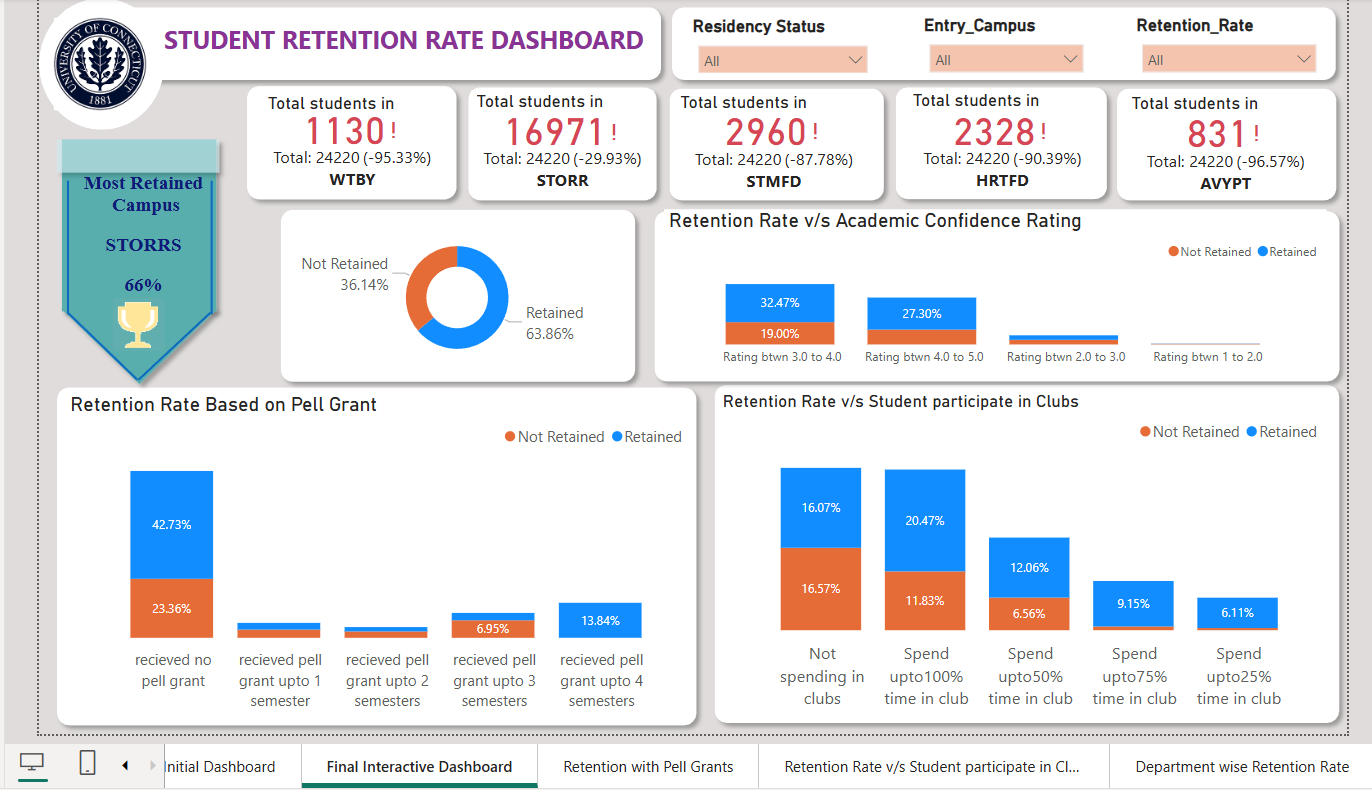

Layout of this report page (visuals, bound fields, positions):
{"tool":"powerbi","page":{"name":"Final Interactive Dashboard","canvas":[1280,720],"ordinal":1},"visuals":[{"type":"shape","box":[0,0,122.7,129],"z":0,"group":"g4"},{"type":"shape","box":[12.7,0,605.3,89.2],"z":0,"group":"g16"},{"type":"shape","box":[193.9,76.5,223,129],"z":0,"group":"g5"},{"type":"group","id":"g1","title":"Group 1","box":[410.6,78.1,202.3,125.8],"z":0},{"type":"shape","box":[410.6,78.1,202.3,128.7],"z":0,"group":"g1"},{"type":"shape","box":[829.4,78.1,224.6,127.4],"z":0,"group":"g6"},{"type":"shape","box":[608.1,79.6,227.8,127.4],"z":0,"group":"g3"},{"type":"group","id":"g2","title":"Group 1","box":[11.8,129,172,257.2],"z":0,"group":"g14"},{"type":"shape","box":[13.4,129,168.8,186],"z":0,"group":"g2"},{"type":"shape","box":[227.8,197.5,364.8,186.4],"z":0,"group":"g10"},{"type":"shape","box":[592.6,199.1,688.1,184.8],"z":0,"group":"g15"},{"type":"shape","box":[8,371.2,643.5,348.8],"z":0,"group":"g8"},{"type":"textbox","box":[117.9,19.1,487.4,70.1],"z":1000,"group":"g16"},{"type":"group","id":"g3","title":"Group 2","box":[608.1,79.6,227.8,127.4],"z":1000},{"type":"shape","box":[8,129,176.8,50.1],"z":1000,"group":"g14"},{"type":"shape","box":[11.8,294,172,92.2],"z":1000,"group":"g2"},{"type":"group","id":"g4","title":"Group 6","box":[0,0,122.7,129],"z":2000,"group":"g16"},{"type":"group","id":"g5","title":"Group 3","box":[193.9,76.5,223,129],"z":2000},{"type":"columnChart","title":"Retention Rate Based on Pell Grant","fields":{"Category":["Sheet1.pell_grant_dis"],"Y":["CountNonNull(Sheet1.retention_2_0)"],"Series":["Sheet1.retention_2_0"]},"box":[25.5,385.7,613.8,318.2],"z":2000,"group":"g8"},{"type":"group","id":"g6","title":"Group 4","box":[829.4,78.1,224.6,127.4],"z":3000},{"type":"shape","box":[651.5,369.6,629.2,348.8],"z":3000,"group":"g11"},{"type":"shape","box":[610.1,0,667.4,89.2],"z":4000,"group":"g9"},{"type":"group","id":"g7","title":"Group 5","box":[1045,79.6,232.6,127.4],"z":4000},{"type":"kpi","title":"Total students in ","fields":{"Indicator":["CountNonNull(Sheet1.entry_campus)"],"TrendLine":["Sheet1.entry_campus"],"Goal":["Max(Sheet1.Target)"]},"box":[218.5,92.6,175.3,95.3],"z":4000,"group":"g5"},{"type":"columnChart","title":"Retention Rate v/s Student participate in Clubs","fields":{"Category":["Sheet1.STUDENT_ORG_Bins"],"Y":["Sum(Sheet1.retention_2_0)"],"Series":["Sheet1.retention_2_0"]},"box":[664.2,384.1,596.7,318.2],"z":4000,"group":"g11"},{"type":"kpi","title":"Total students in ","fields":{"Indicator":["CountNonNull(Sheet1.entry_campus)"],"TrendLine":["Sheet1.entry_campus"],"Goal":["Max(Sheet1.Target)"]},"box":[850.8,89.3,185.4,105.1],"z":5000,"group":"g6"},{"type":"group","id":"g8","title":"Group 7","box":[8,371.2,643.5,348.8],"z":5000},{"type":"group","id":"g9","title":"Group 9","box":[610.1,0,667.4,89.2],"z":6000},{"type":"slicer","title":"Residency Status","fields":{"Values":["Sheet1.residency"]},"box":[634,17.5,186.4,55.8],"z":7000,"group":"g9"},{"type":"kpi","title":"Total students in ","fields":{"Indicator":["CountNonNull(Sheet1.entry_campus)"],"TrendLine":["Sheet1.entry_campus"],"Goal":["Max(Sheet1.Target)"]},"box":[422.6,90.7,178.3,103.4],"z":7000,"group":"g1"},{"type":"kpi","title":"Total students in ","fields":{"Indicator":["CountNonNull(Sheet1.entry_campus)"],"TrendLine":["Sheet1.entry_campus"],"Goal":["Max(Sheet1.Target)"]},"box":[623.1,92.1,193.3,101.3],"z":7000,"group":"g3"},{"type":"group","id":"g10","title":"Group 10","box":[227.8,197.5,364.8,186.4],"z":7000},{"type":"shape","box":[1045,79.6,232.6,127.4],"z":8000,"group":"g7"},{"type":"group","id":"g11","title":"Group 11","box":[651.5,369.6,629.2,348.8],"z":8000},{"type":"slicer","title":"Entry_Campus","fields":{"Values":["Sheet1.entry_campus"]},"box":[860.2,15.9,170.4,60.5],"z":9000,"group":"g9"},{"type":"group","id":"g12","title":"Group 4","box":[0,129,195.9,257.2],"z":9000,"group":"g17"},{"type":"group","id":"g13","title":"Group 5","box":[8,129,178.4,257.2],"z":9000,"group":"g12"},{"type":"group","id":"g14","title":"Group 2","box":[8,129,176.8,257.2],"z":9000,"group":"g13"},{"type":"group","id":"g15","title":"Group 13","box":[592.6,199.1,688.1,184.8],"z":9000},{"type":"group","id":"g16","title":"Group 14","box":[0,0,618.1,129],"z":10000},{"type":"kpi","title":"Total students in ","fields":{"Indicator":["CountNonNull(Sheet1.entry_campus)"],"TrendLine":["Sheet1.entry_campus"],"Goal":["Max(Sheet1.Target)"]},"box":[1063.4,93.3,194.3,102.4],"z":10000,"group":"g7"},{"type":"shape","box":[22.3,177.5,12.7,131],"z":10000,"group":"g17"},{"type":"image","box":[0,287.5,195.9,61.5],"z":10000,"group":"g12"},{"type":"slicer","title":"Retention_Rate","fields":{"Values":["Sheet1.retention_2_0"]},"box":[1068.7,15.9,191.2,66.9],"z":11000,"group":"g9"},{"type":"group","id":"g17","title":"Group 15","box":[0,129,195.9,317],"z":11000},{"type":"textbox","box":[16,164.6,170.4,177.9],"z":11000,"group":"g13"},{"type":"shape","box":[157.7,177.5,22.3,131],"z":11000,"group":"g17"},{"type":"shape","box":[97.2,234.1,71.7,211.9],"z":12000,"group":"g17"},{"type":"columnChart","title":"Retention Rate v/s Academic Confidence Rating","fields":{"Category":["Sheet1.ACADEMIC_CONFIDENCE_Bins"],"Y":["Sum(Sheet1.retention_2_0)"],"Series":["Sheet1.retention_2_0"]},"box":[610.8,206.9,648.3,162.5],"z":13000,"group":"g15"},{"type":"shape","box":[28.7,294,68.5,92.2],"z":13000,"group":"g17"},{"type":"image","box":[9.6,9.6,100.4,109.9],"z":14000,"group":"g4"},{"type":"donutChart","title":"Retention Rate Percent","fields":{"Category":["Sheet1.retention_2_0"],"Y":["CountNonNull(Sheet1.retention_2_0)"]},"box":[249.1,223.3,322.1,138.8],"z":15000,"group":"g10"}]}

Visuals, with their boxes on the page's 1280x720 design canvas (x1, y1, x2, y2). These are canvas units, not pixel positions in the 1372x790 screenshot, which may show the page scaled, cropped or inside an application window:
shape: (0,0,123,129)
shape: (13,0,618,89)
shape: (194,76,417,206)
"Group 1" group: (411,78,613,204)
shape: (411,78,613,207)
shape: (829,78,1054,206)
shape: (608,80,836,207)
"Group 1" group: (12,129,184,386)
shape: (13,129,182,315)
shape: (228,198,593,384)
shape: (593,199,1281,384)
shape: (8,371,652,720)
textbox: (118,19,605,89)
"Group 2" group: (608,80,836,207)
shape: (8,129,185,179)
shape: (12,294,184,386)
"Group 6" group: (0,0,123,129)
"Group 3" group: (194,76,417,206)
"Retention Rate Based on Pell Grant" columnChart: (26,386,639,704)
"Group 4" group: (829,78,1054,206)
shape: (652,370,1281,718)
shape: (610,0,1278,89)
"Group 5" group: (1045,80,1278,207)
"Total students in " kpi: (218,93,394,188)
"Retention Rate v/s Student participate in Clubs" columnChart: (664,384,1261,702)
"Total students in " kpi: (851,89,1036,194)
"Group 7" group: (8,371,652,720)
"Group 9" group: (610,0,1278,89)
"Residency Status" slicer: (634,18,820,73)
"Total students in " kpi: (423,91,601,194)
"Total students in " kpi: (623,92,816,193)
"Group 10" group: (228,198,593,384)
shape: (1045,80,1278,207)
"Group 11" group: (652,370,1281,718)
"Entry_Campus" slicer: (860,16,1031,76)
"Group 4" group: (0,129,196,386)
"Group 5" group: (8,129,186,386)
"Group 2" group: (8,129,185,386)
"Group 13" group: (593,199,1281,384)
"Group 14" group: (0,0,618,129)
"Total students in " kpi: (1063,93,1258,196)
shape: (22,178,35,308)
image: (0,288,196,349)
"Retention_Rate" slicer: (1069,16,1260,83)
"Group 15" group: (0,129,196,446)
textbox: (16,165,186,342)
shape: (158,178,180,308)
shape: (97,234,169,446)
"Retention Rate v/s Academic Confidence Rating" columnChart: (611,207,1259,369)
shape: (29,294,97,386)
image: (10,10,110,120)
"Retention Rate Percent" donutChart: (249,223,571,362)
